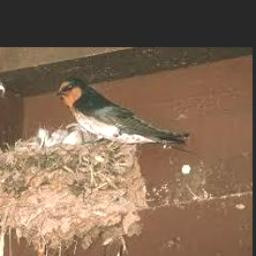Swallow: (57, 78, 189, 146)
